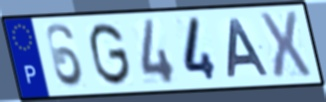4: (181, 15, 222, 85), (138, 17, 177, 86)
6: (45, 22, 86, 91)
A: (226, 17, 272, 80)
G: (88, 20, 134, 88)
X: (256, 10, 314, 82)
